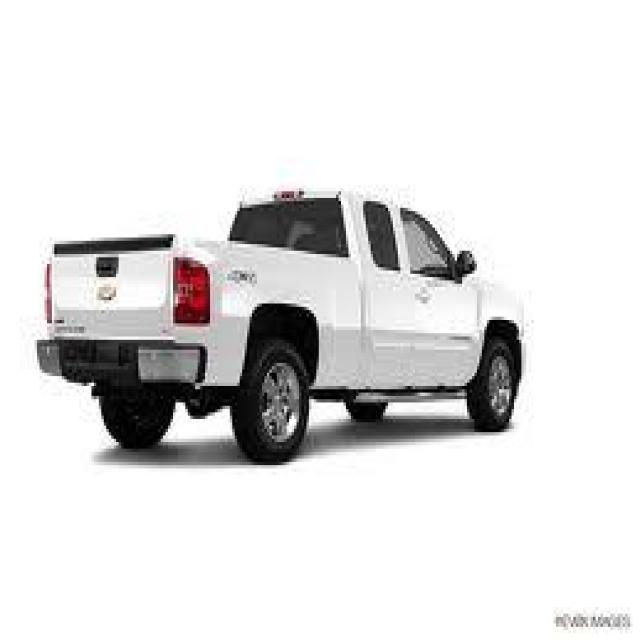car: (29, 172, 528, 465)
